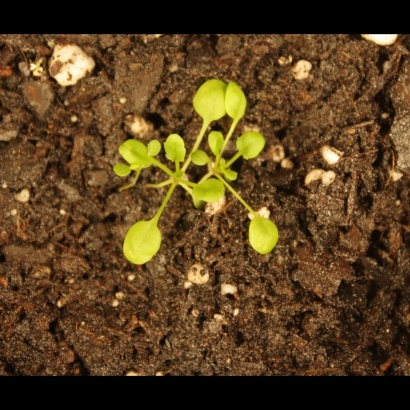leaf: (189, 69, 232, 122), (240, 208, 285, 258), (121, 219, 164, 267), (221, 77, 256, 125), (117, 132, 154, 170), (233, 129, 272, 165), (191, 175, 230, 204), (163, 131, 187, 165), (206, 129, 230, 162), (110, 161, 133, 184), (142, 136, 165, 159), (188, 149, 211, 172), (218, 160, 241, 183)
